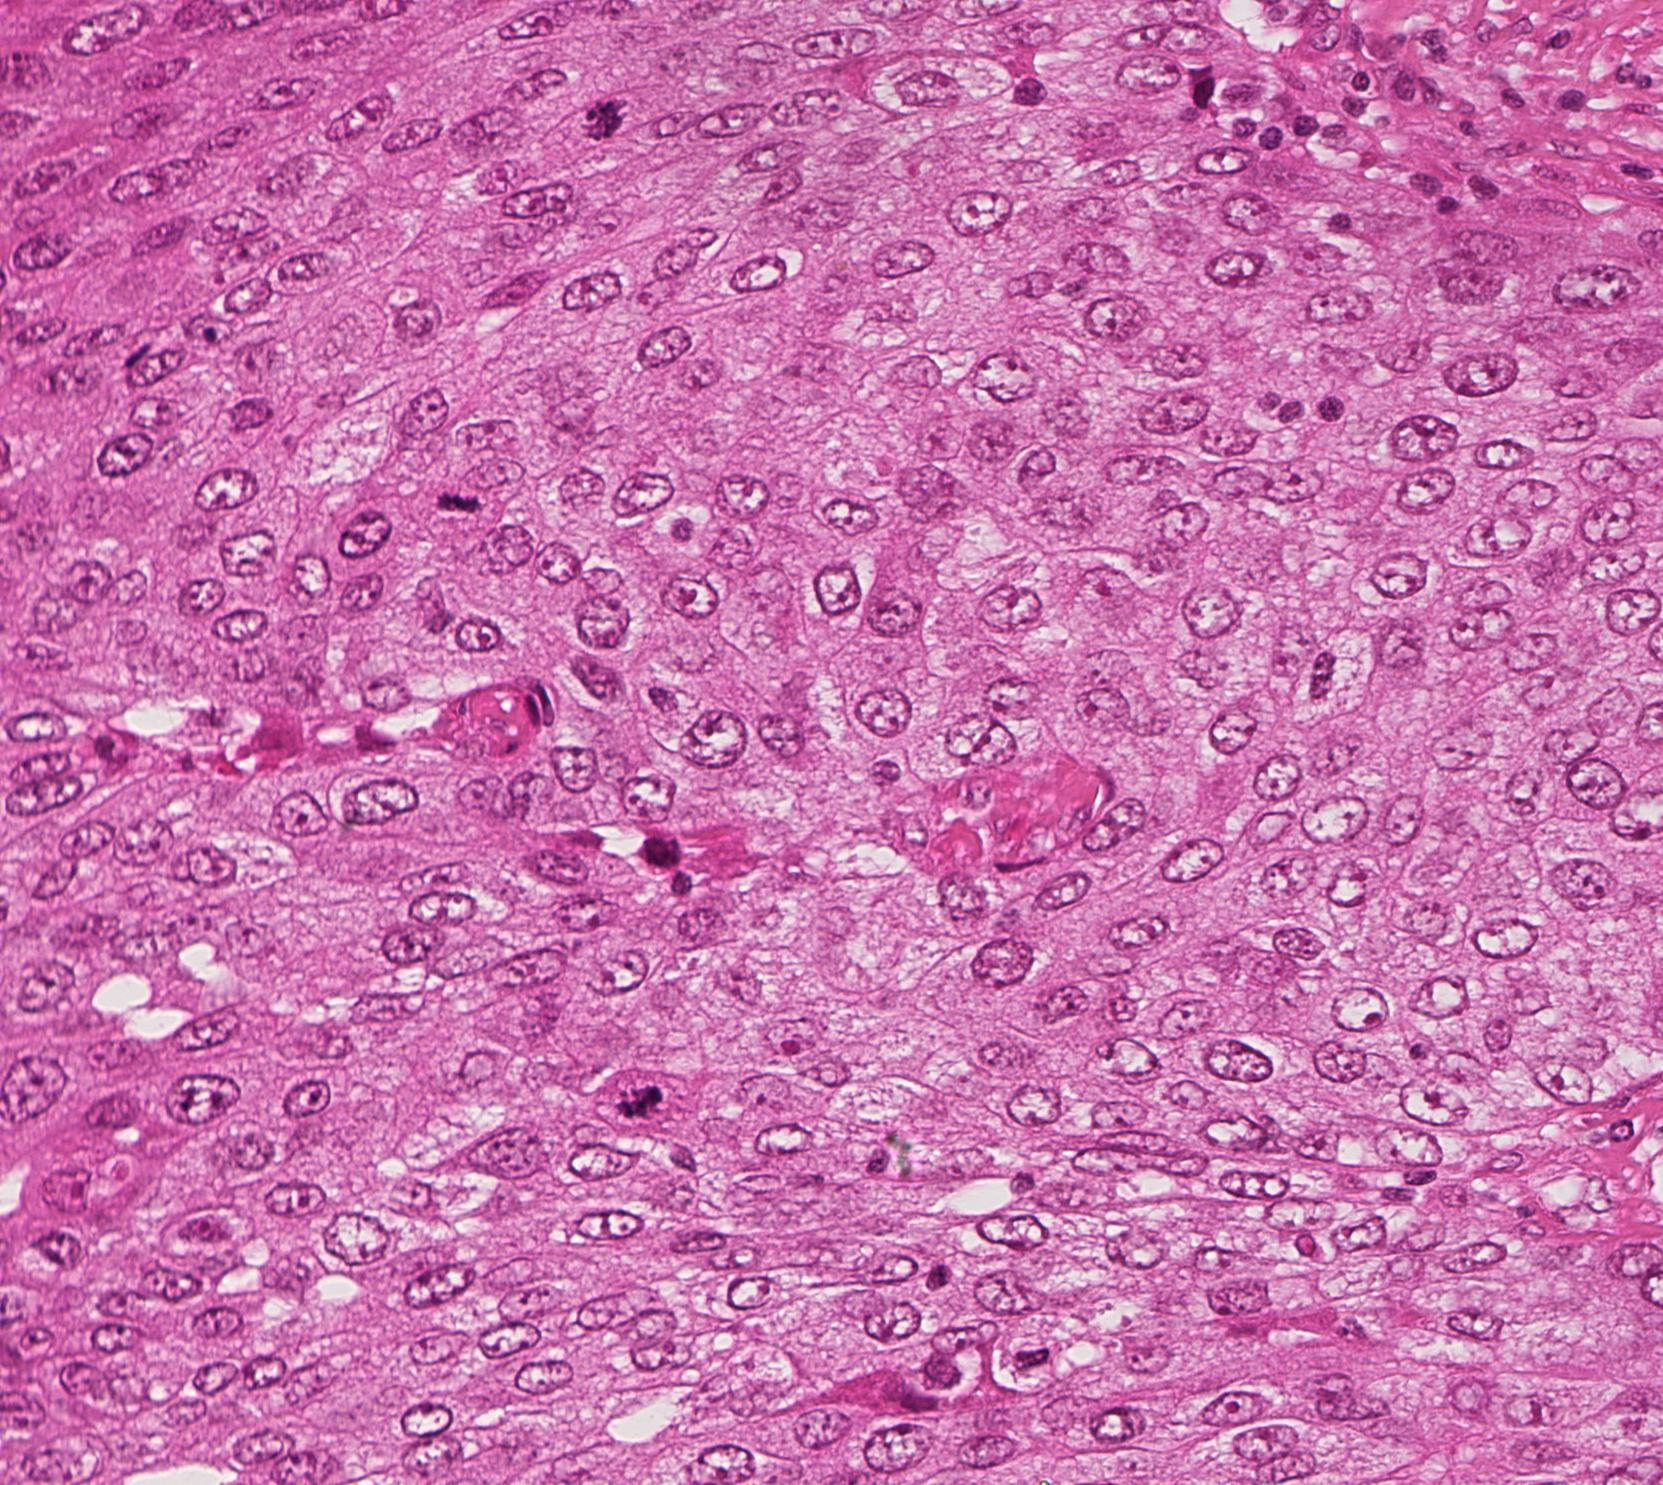mitosis: (576, 87, 637, 148), (609, 1076, 670, 1137), (421, 469, 482, 529)
